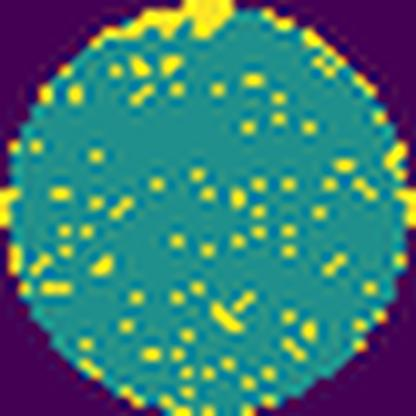Edge-Loc: (90, 0, 240, 52)
